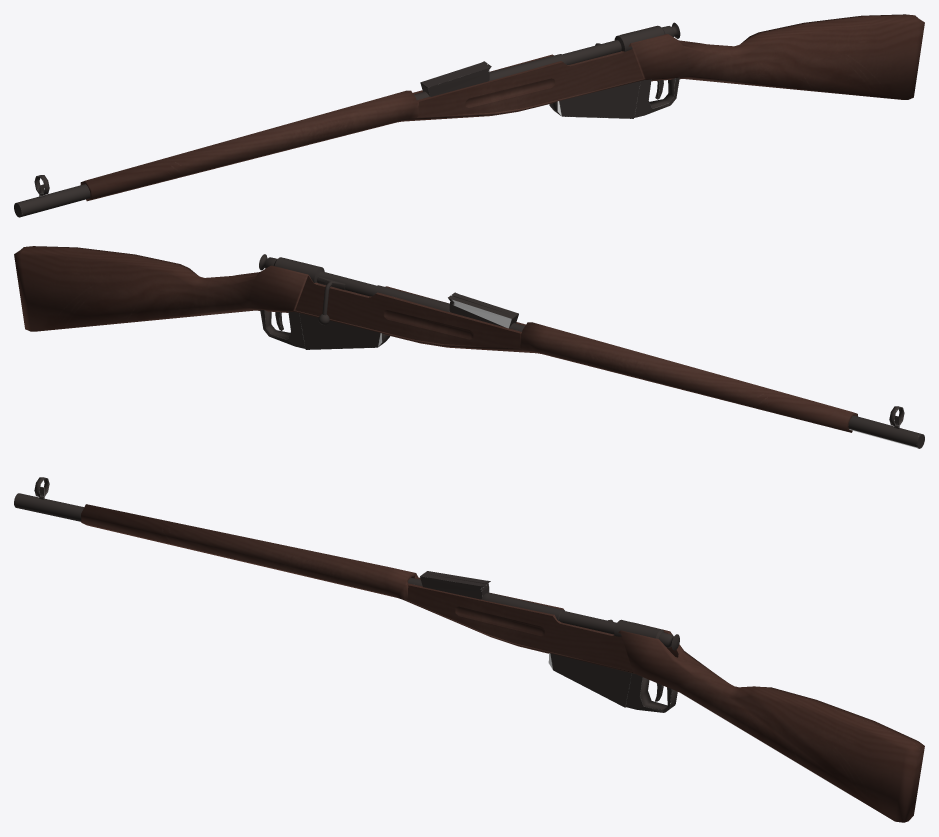
The model's file is MosinUVd.obj.
The picture shows the model from 3 angles, top to bottom: view 1: azimuth 30°, elevation 25°; view 2: azimuth 150°, elevation 25°; view 3: azimuth 330°, elevation 25°; orthographic projection.
Parts seen in each view (by area): view 1: Stock_Vert.004_Stock, BoltBarrel_Cylinder_BoltBarrel, Magazine_Plane_Magazine, RearSight_Cube_RearSight, TriggerGuard_Plane.001_Guard; view 2: Stock_Vert.004_Stock, BoltBarrel_Cylinder_BoltBarrel, Magazine_Plane_Magazine, RearSight_Cube_RearSight, TriggerGuard_Plane.001_Guard; view 3: Stock_Vert.004_Stock, BoltBarrel_Cylinder_BoltBarrel, Magazine_Plane_Magazine, RearSight_Cube_RearSight, TriggerGuard_Plane.001_Guard.
Boxes of the visible parts, x1=… form: Stock_Vert.004_Stock: x1=80, y1=14, x2=924, y2=201; BoltBarrel_Cylinder_BoltBarrel: x1=14, y1=22, x2=680, y2=217; Magazine_Plane_Magazine: x1=549, y1=81, x2=640, y2=118; RearSight_Cube_RearSight: x1=420, y1=61, x2=491, y2=96; TriggerGuard_Plane.001_Guard: x1=634, y1=77, x2=679, y2=117; Stock_Vert.004_Stock: x1=14, y1=246, x2=857, y2=432; BoltBarrel_Cylinder_BoltBarrel: x1=259, y1=254, x2=924, y2=448; Magazine_Plane_Magazine: x1=299, y1=313, x2=390, y2=349; RearSight_Cube_RearSight: x1=448, y1=292, x2=518, y2=328; TriggerGuard_Plane.001_Guard: x1=260, y1=309, x2=305, y2=348; Stock_Vert.004_Stock: x1=81, y1=504, x2=924, y2=822; BoltBarrel_Cylinder_BoltBarrel: x1=14, y1=493, x2=679, y2=650; Magazine_Plane_Magazine: x1=548, y1=653, x2=631, y2=707; RearSight_Cube_RearSight: x1=420, y1=571, x2=490, y2=599; TriggerGuard_Plane.001_Guard: x1=625, y1=673, x2=677, y2=712.
Size of the model in its own units: 0.9921 by 0.1443 by 0.037.
Materials: 7 (7 with a texture image).
